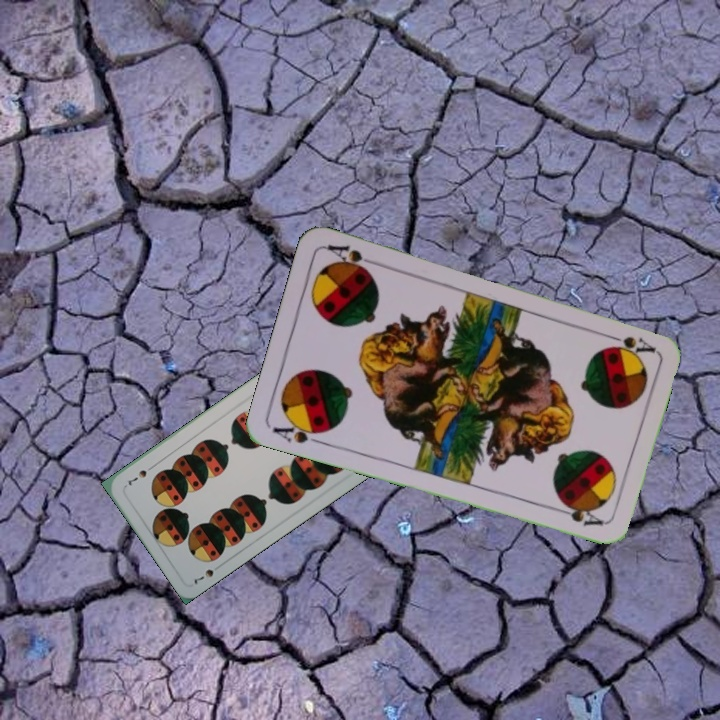S7: (190, 565, 216, 588)
SA: (269, 417, 329, 448), (599, 329, 657, 356)
